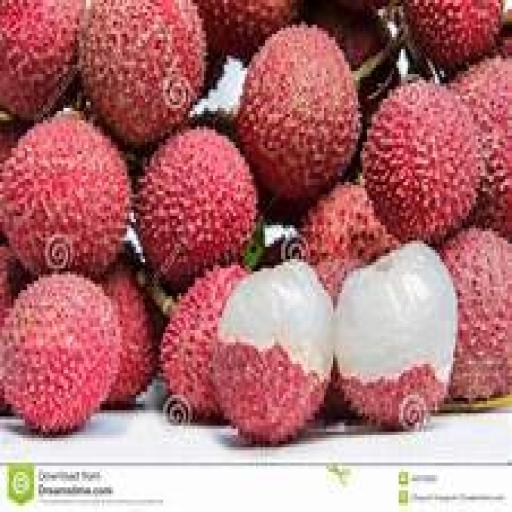lychee: (336, 244, 457, 428), (213, 260, 333, 444), (238, 25, 360, 200), (0, 115, 131, 274), (363, 81, 484, 240), (0, 275, 120, 434), (136, 130, 255, 286), (80, 0, 206, 144), (161, 266, 246, 419), (442, 229, 511, 400), (302, 182, 398, 299), (454, 59, 511, 237), (0, 0, 83, 120), (102, 263, 158, 407), (404, 0, 502, 70), (195, 0, 301, 58), (306, 0, 389, 70), (0, 244, 24, 333), (0, 124, 22, 172), (331, 0, 389, 12)
